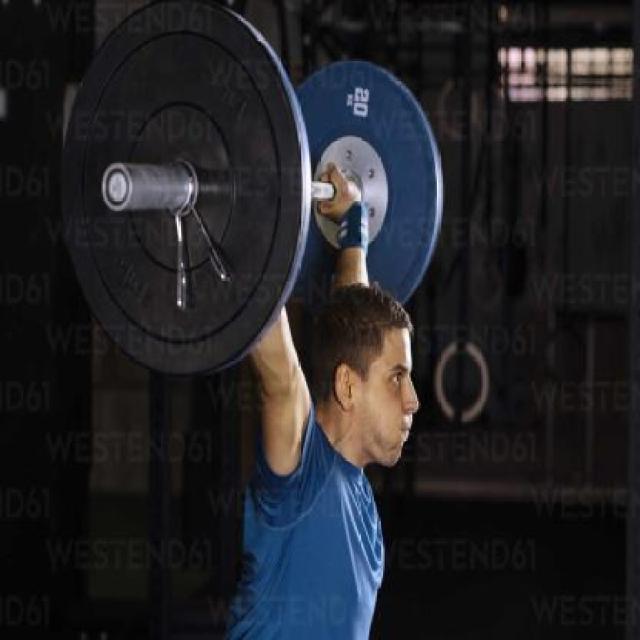barbell: (53, 2, 318, 386)
